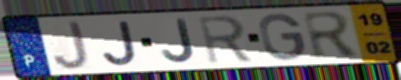G: (257, 12, 308, 63)
J: (51, 19, 91, 71), (100, 20, 140, 68), (160, 17, 198, 65)
R: (300, 10, 364, 61), (196, 14, 256, 66)
